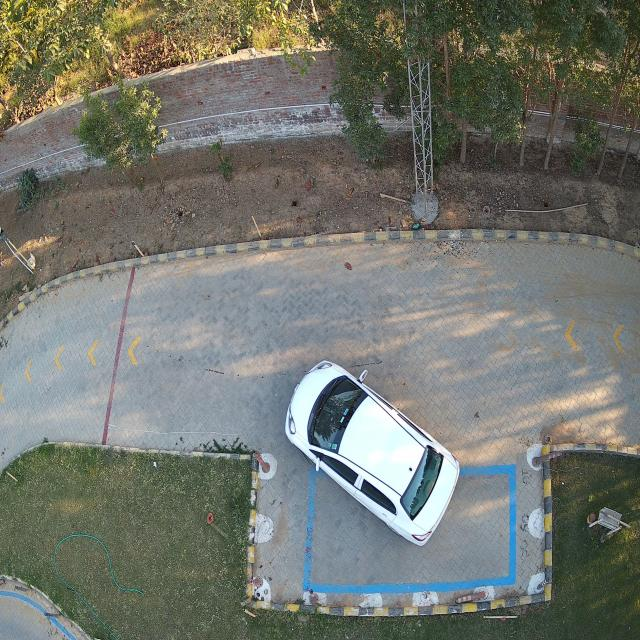car: (283, 363, 463, 548)
